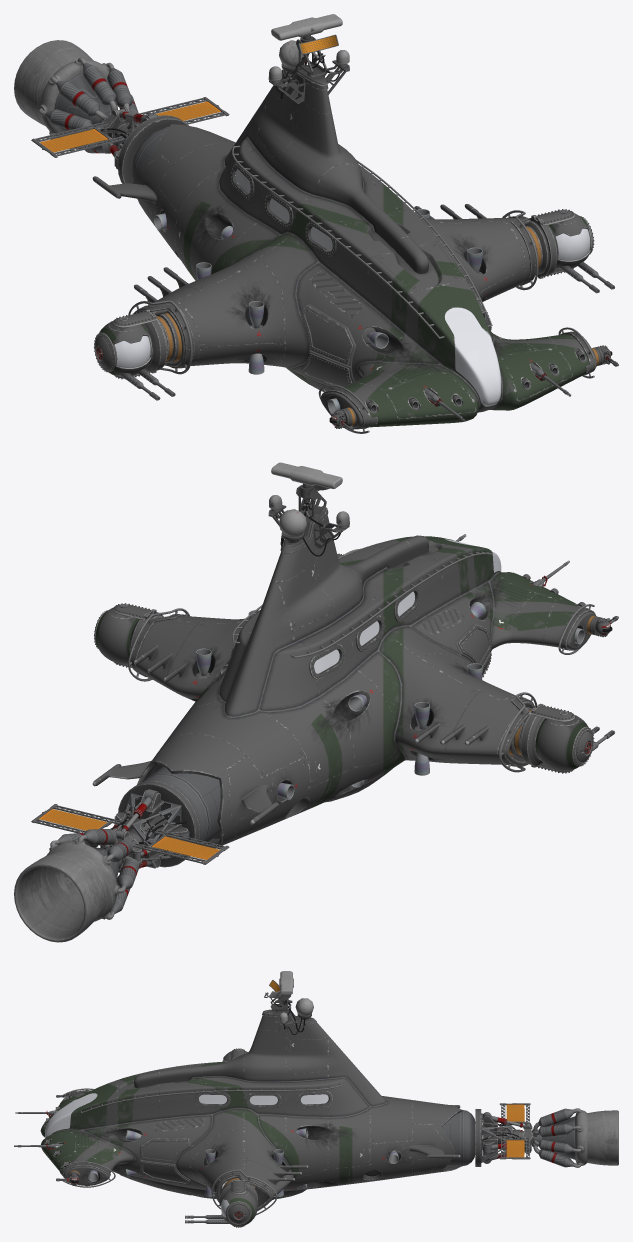
The model's file is HammerheadShip_full.fbx.
3 views of the same model, one above another, from view 1: azimuth 30°, elevation 25°; view 2: azimuth 150°, elevation 25°; view 3: azimuth 270°, elevation 25° (orthographic). The views are drawn at different scales.
Visible parts, largest first — view 1: HullA.009, Nozzle_low, HullA.004, Rail_low, Radiator1_low.001, HullA.017, Cube.007, Cylinder.006, Comms1_low, Tank_low, HullA.008, Ball_low.001 (+14 smaller); view 2: HullA.009, Nozzle_low, Tank_low, Radiator1_low.001, HullA.017, Cylinder.006, Rail_low, Ball_low.001, Piston_low, Ball_low, Comms1_low, Truss_low (+4 smaller); view 3: HullA.009, Nozzle_low, Tank_low, Cube.007, HullA.017, Radiator1_low.001, Rail_low, Piston_low, Cylinder.006, HullA.006, HullA.008, HullA.004 (+8 smaller).
Boxes of the visible parts, x1,y1,x2,y2 form: HullA.009: [92, 69, 596, 427]; Nozzle_low: [14, 40, 128, 140]; HullA.004: [444, 307, 501, 406]; Rail_low: [128, 145, 594, 433]; Radiator1_low.001: [31, 97, 229, 157]; HullA.017: [134, 162, 536, 368]; Cube.007: [301, 295, 489, 386]; Cylinder.006: [154, 209, 485, 414]; Comms1_low: [271, 14, 342, 76]; Tank_low: [118, 115, 188, 183]; HullA.008: [300, 269, 491, 388]; Ball_low.001: [95, 321, 152, 376]; HullA.009: [92, 507, 596, 848]; Nozzle_low: [14, 840, 122, 942]; Tank_low: [118, 766, 220, 867]; Radiator1_low.001: [31, 804, 229, 864]; HullA.017: [130, 586, 535, 766]; Cylinder.006: [195, 602, 584, 799]; Rail_low: [128, 543, 594, 772]; Ball_low.001: [535, 715, 592, 771]; Piston_low: [100, 789, 189, 872]; Ball_low: [95, 608, 138, 663]; Comms1_low: [271, 462, 342, 517]; Truss_low: [119, 793, 181, 861]; HullA.009: [40, 1009, 461, 1210]; Nozzle_low: [524, 1110, 618, 1165]; Tank_low: [442, 1109, 481, 1166]; Cube.007: [140, 1137, 190, 1184]; HullA.017: [195, 1091, 332, 1210]; Radiator1_low.001: [498, 1103, 532, 1159]; Rail_low: [60, 1061, 341, 1215]; Piston_low: [483, 1112, 531, 1163]; Cylinder.006: [88, 1128, 399, 1196]; HullA.006: [198, 1094, 328, 1104]; HullA.008: [140, 1138, 189, 1185]; HullA.004: [45, 1093, 97, 1137].
Bounding box in the file's own units: 1937 × 1250 × 3203.
